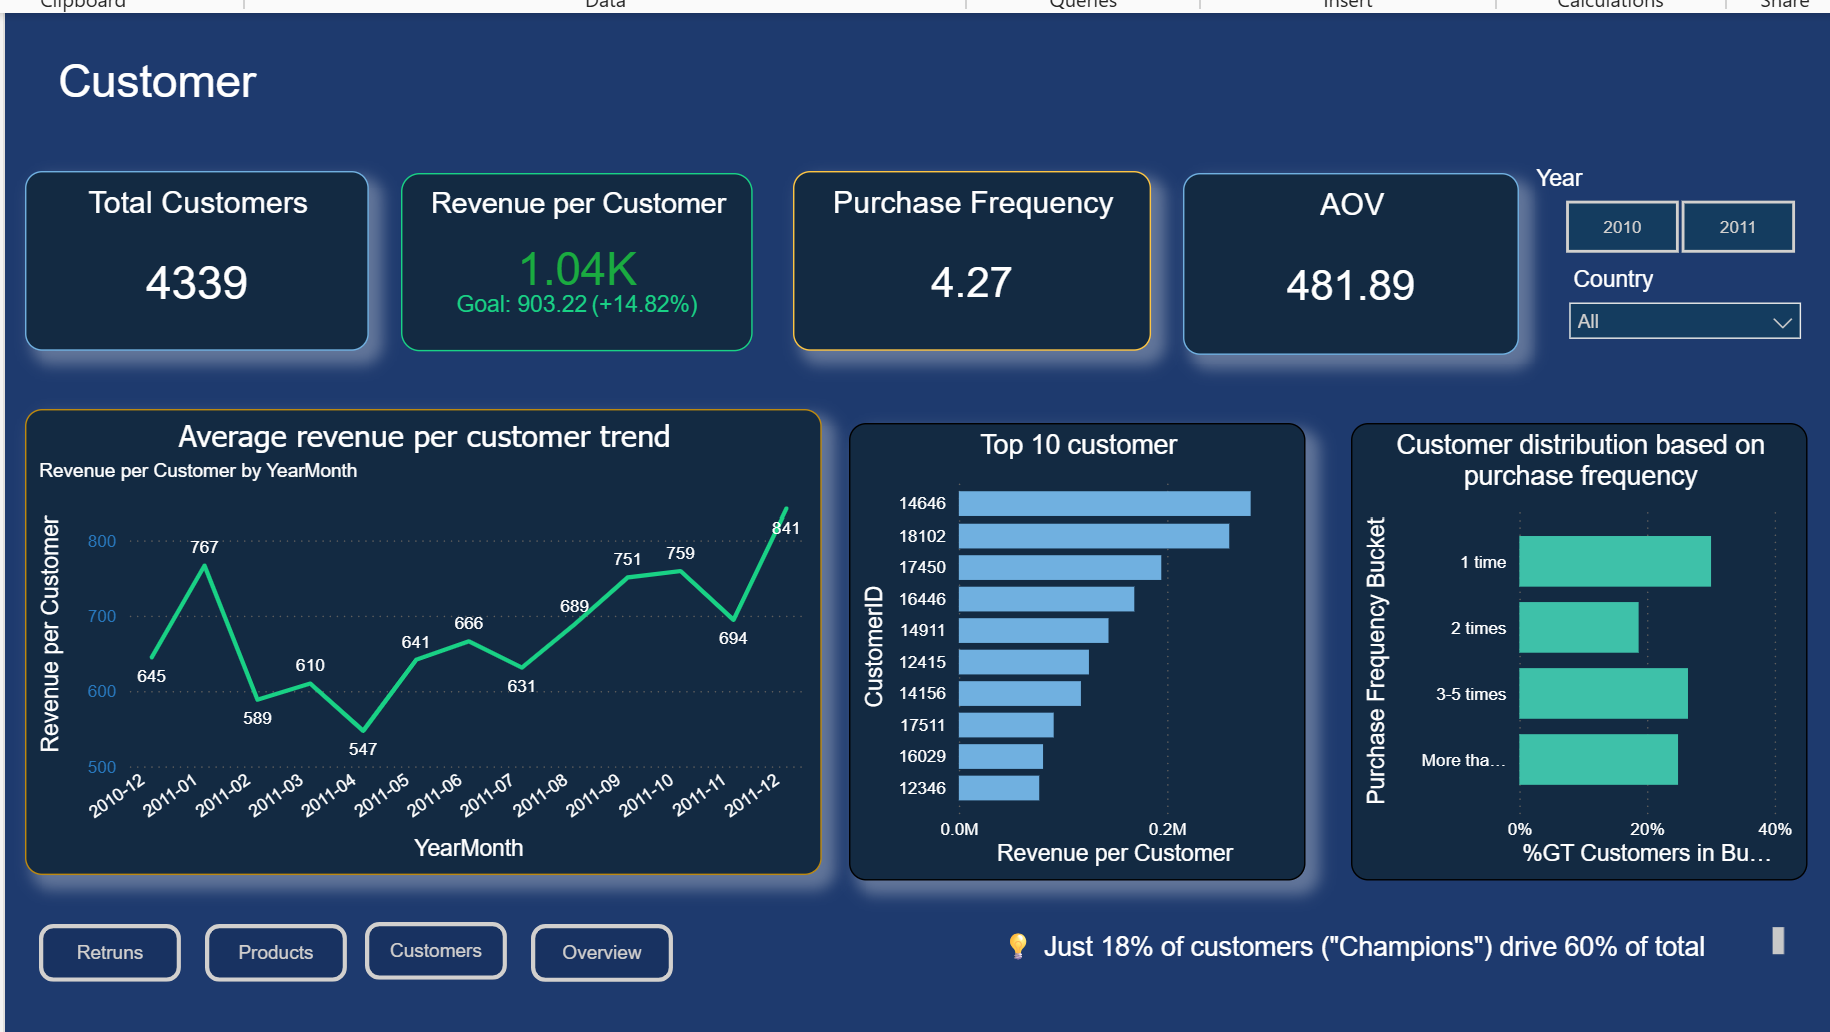

What the dashboard file says about the page in this screenshot:
{"tool":"powerbi","page":{"name":"Customers","canvas":[1280,720],"ordinal":3},"visuals":[{"type":"textbox","title":"Customer","box":[14.5,29.1,395.6,82.9],"z":0},{"type":"actionButton","box":[777.8,54.4,99.5,40.5],"z":0,"group":"g1"},{"type":"actionButton","box":[669.7,54.4,99.5,40.5],"z":1000,"group":"g1"},{"type":"card","fields":{"Values":["_Measures.Total Customers"]},"box":[39.3,110.5,280.7,149.8],"z":1000},{"type":"actionButton","box":[557.9,55.6,99.5,40.5],"z":2000,"group":"g1"},{"type":"lineChart","title":"Average revenue per customer trend","fields":{"Y":["_Measures.Revenue per Customer"],"Category":["CalendarTable.YearMonth"]},"box":[14.5,277.8,558.5,325.8],"z":2000},{"type":"actionButton","box":[441.2,55.6,99.5,40.5],"z":3000,"group":"g1"},{"type":"clusteredBarChart","title":"Top 10 customer","fields":{"Category":["Online Retail.CustomerID"],"Y":["_Measures.Revenue per Customer"]},"box":[592,288,320,320],"z":3000},{"type":"clusteredBarChart","title":"Customer distribution based on purchase frequency","fields":{"Category":["Online Retail.Purchase Frequency Bucket"],"Y":["_Measures.Customers in Bucket"]},"box":[944,288,320,320],"z":4000},{"type":"card","fields":{"Values":["_Measures.Purchase Frequency"]},"box":[667.6,110.5,280.7,149.8],"z":5000},{"type":"card","fields":{"Values":["_Measures.Average Order Value"]},"box":[971.6,112,280.7,148.4],"z":6000},{"type":"kpi","fields":{"Indicator":["_Measures.Revenue per Customer"],"Goal":["_Measures.Revenue per Customer PM"],"TrendLine":["CalendarTable.MonthStartDate"]},"box":[349.1,110.5,290.9,149.8],"z":7000},{"type":"slicer","fields":{"Values":["Online Retail.Country"]},"box":[1085.1,29.1,145.5,66.9],"z":8000},{"type":"slicer","fields":{"Values":["CalendarTable.Year"]},"box":[879.9,54.4,213.9,41.1],"z":9000},{"type":"group","id":"g1","title":"Group 1","box":[441.2,54.4,436.3,41.1],"z":10000},{"type":"textbox","box":[15.4,637.9,559.4,39.3],"z":10001}]}

Visuals, with their boxes on the page's 1280x720 design canvas (x1, y1, x2, y2). These are canvas units, not pixel positions in the 1830x1032 screenshot, which may show the page scaled, cropped or inside an application window:
"Customer" textbox: region(14, 29, 410, 112)
actionButton: region(778, 54, 877, 95)
actionButton: region(670, 54, 769, 95)
card - _Measures.Total Customers: region(39, 110, 320, 260)
actionButton: region(558, 56, 657, 96)
"Average revenue per customer trend" lineChart: region(14, 278, 573, 604)
actionButton: region(441, 56, 541, 96)
"Top 10 customer" clusteredBarChart: region(592, 288, 912, 608)
"Customer distribution based on purchase frequency" clusteredBarChart: region(944, 288, 1264, 608)
card - _Measures.Purchase Frequency: region(668, 110, 948, 260)
card - _Measures.Average Order Value: region(972, 112, 1252, 260)
kpi - _Measures.Revenue per Customer x _Measures.Revenue per Customer PM: region(349, 110, 640, 260)
slicer - Online Retail.Country: region(1085, 29, 1231, 96)
slicer - CalendarTable.Year: region(880, 54, 1094, 96)
"Group 1" group: region(441, 54, 878, 96)
textbox: region(15, 638, 575, 677)
